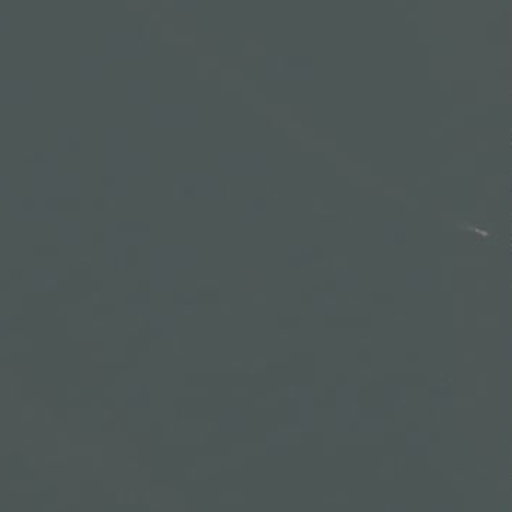ship: (470, 224, 492, 240)
